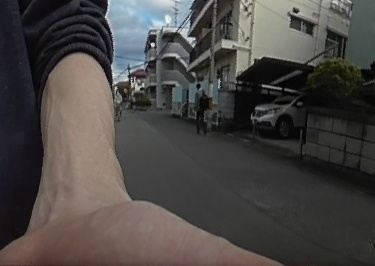person: (192, 82, 212, 130), (114, 87, 123, 120)
